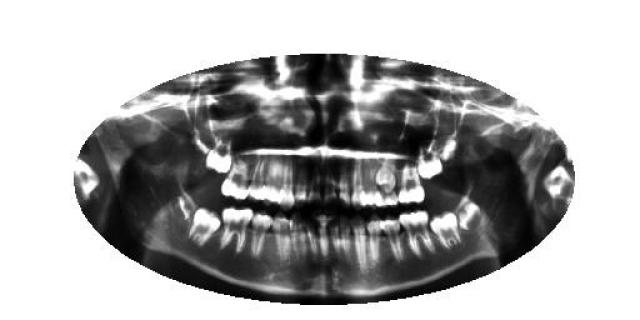Restorations: (454, 200, 481, 232), (168, 194, 192, 222)
